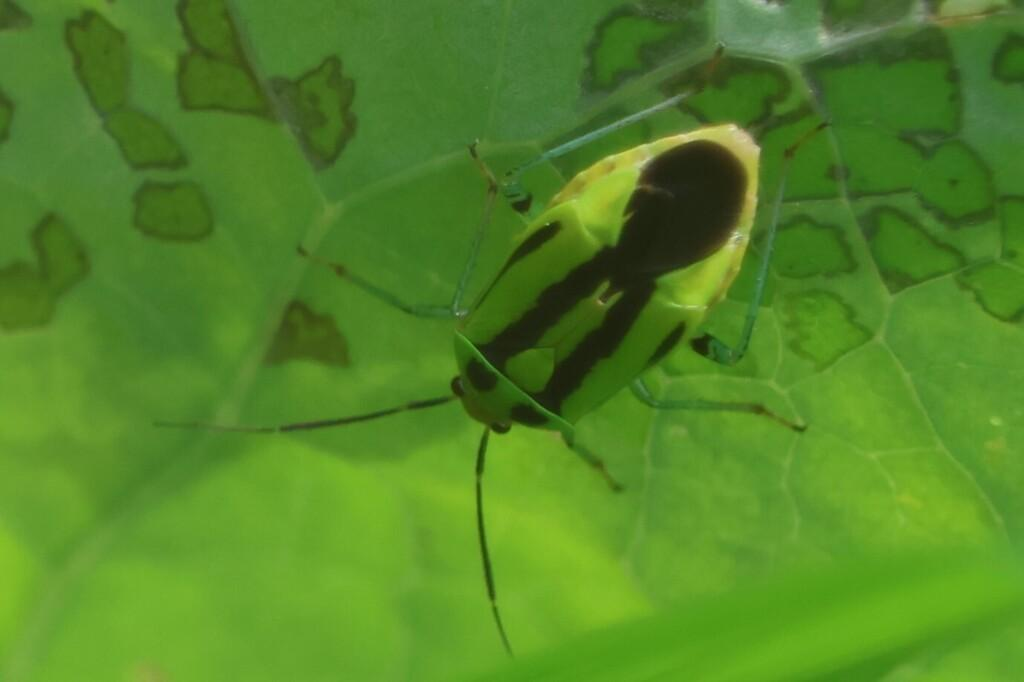plant_bugs: (105, 0, 875, 682)
